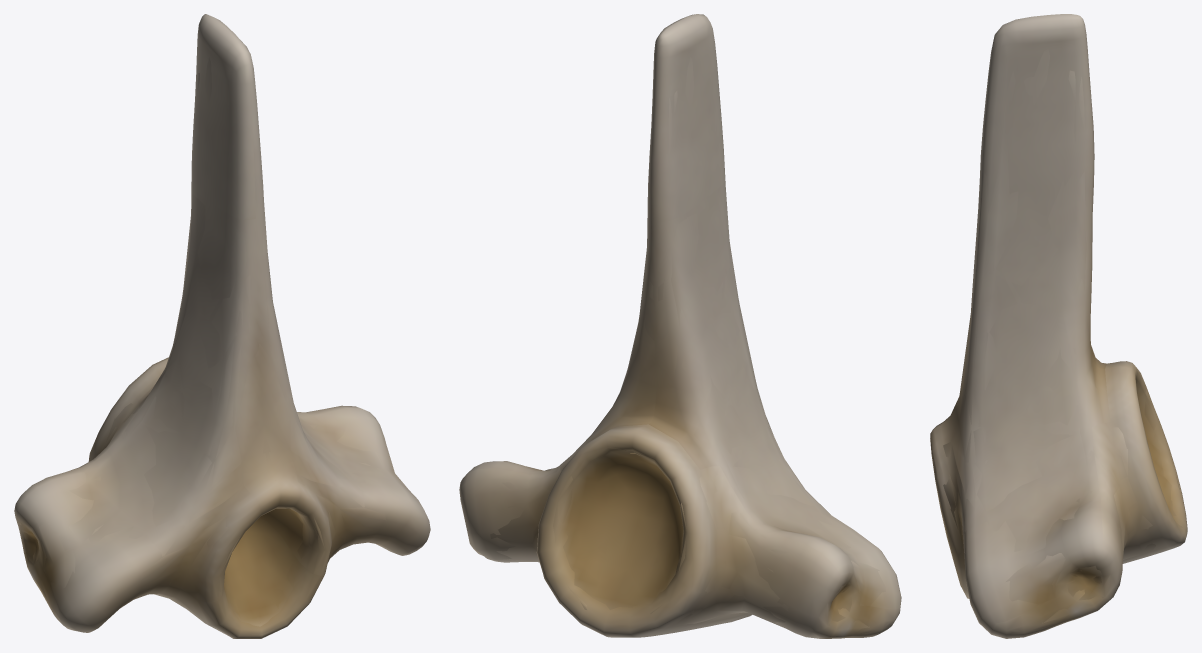
The model's file is vertebrae thoracicae 09.fbx.
The picture shows the model from 3 angles, left to right: view 1: azimuth 30°, elevation 25°; view 2: azimuth 150°, elevation 25°; view 3: azimuth 270°, elevation 25°; orthographic projection. The views are drawn at different scales.
Parts seen in each view (by area): view 1: vertebrae thoracicae 09, vertebrae thoracicae 09 low; view 2: vertebrae thoracicae 09, vertebrae thoracicae 09 low; view 3: vertebrae thoracicae 09, vertebrae thoracicae 09 low.
Boxes of the visible parts, x1=… form: vertebrae thoracicae 09: x1=14, y1=14, x2=430, y2=638; vertebrae thoracicae 09 low: x1=18, y1=57, x2=409, y2=635; vertebrae thoracicae 09: x1=459, y1=14, x2=901, y2=638; vertebrae thoracicae 09 low: x1=490, y1=57, x2=890, y2=637; vertebrae thoracicae 09: x1=930, y1=14, x2=1187, y2=638; vertebrae thoracicae 09 low: x1=940, y1=49, x2=1182, y2=632.
Bounding box in the file's own units: 5.08 × 7.82 × 3.15.
Materials: 1 (1 with a texture image).
